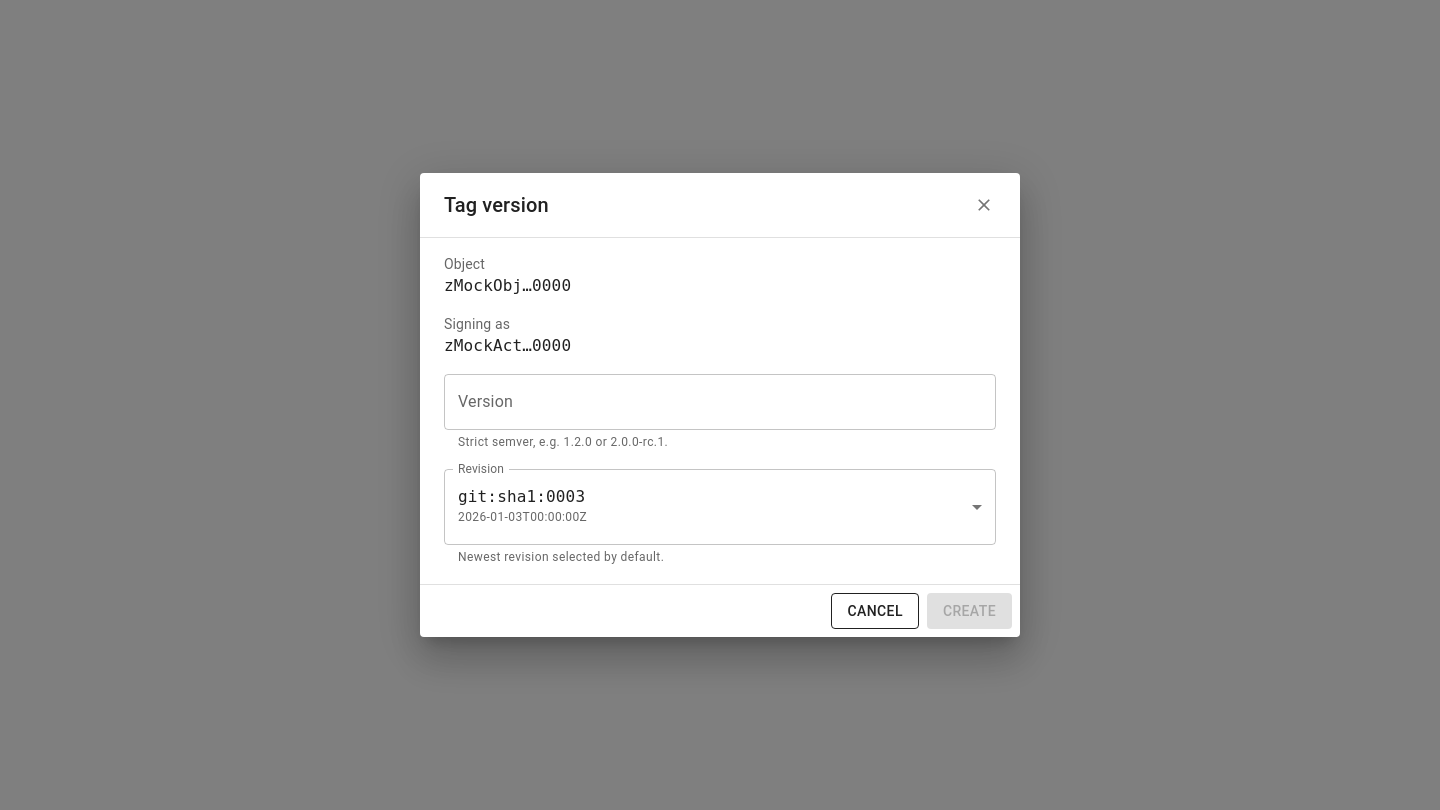
Test case: <VersionTagDialog /> › shows the create hint for a version this actor has not tagged
Type "1.2.0" into the dropdown with test id "version-tag-input".
click(705, 402); type("1.2.0")  # box x1=453 y1=383 x2=957 y2=421
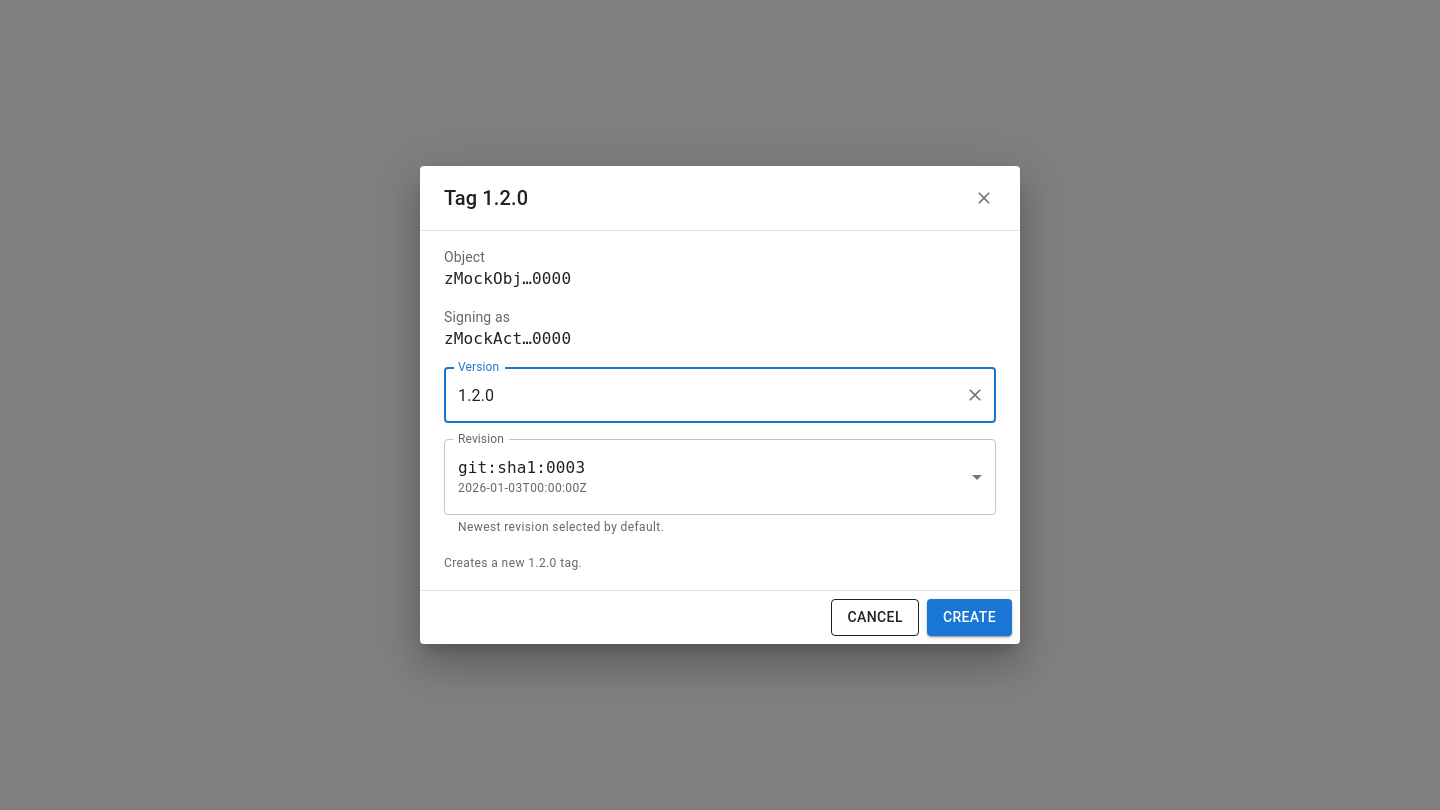
Expected: the button with test id "version-tag-submit" reads "Create", x1=927 y1=599 x2=1012 y2=636
Now the text with test id "version-tag-mode-hint" shows "Creates a new 1.2.0 tag", box x1=444 y1=556 x2=582 y2=570
